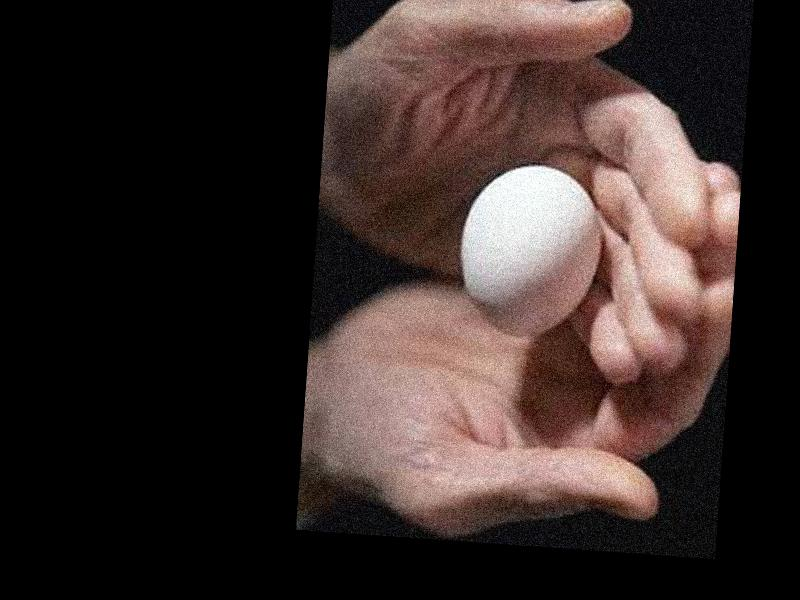Eggs: (454, 159, 605, 340)
